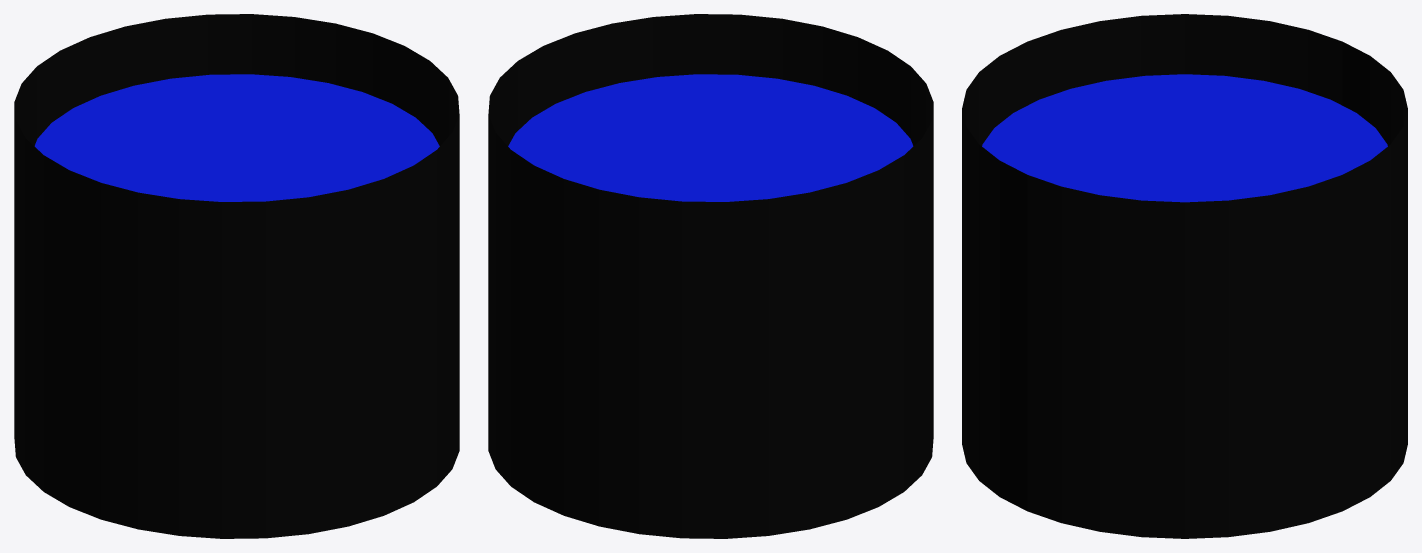
Rendered from Specimen1.dae.
The picture shows the model from 3 angles, left to right: view 1: azimuth 30°, elevation 25°; view 2: azimuth 150°, elevation 25°; view 3: azimuth 270°, elevation 25°; orthographic projection.
Parts seen in each view (by area): view 1: Cylinder, Cylinder.001; view 2: Cylinder, Cylinder.001; view 3: Cylinder, Cylinder.001.
Boxes of the visible parts, box(x1,y1,x2,y2) form: Cylinder: box(14, 14, 459, 538); Cylinder.001: box(34, 74, 439, 201); Cylinder: box(488, 14, 933, 538); Cylinder.001: box(508, 74, 913, 201); Cylinder: box(962, 14, 1407, 538); Cylinder.001: box(982, 74, 1387, 202).
Bounding box in the file's own units: 0.3 × 0.3 × 0.25.
